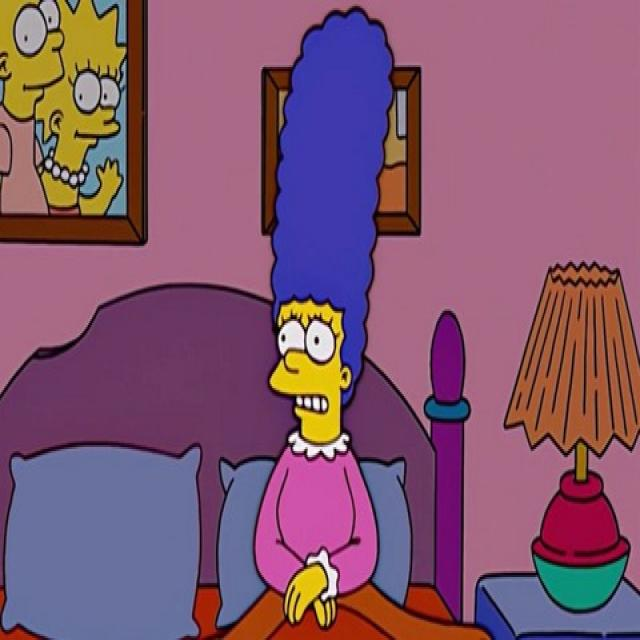Bart Simpson: (1, 1, 68, 133)
Lisa Simpson: (33, 0, 135, 187)
Marge Simpson: (264, 1, 400, 466)
